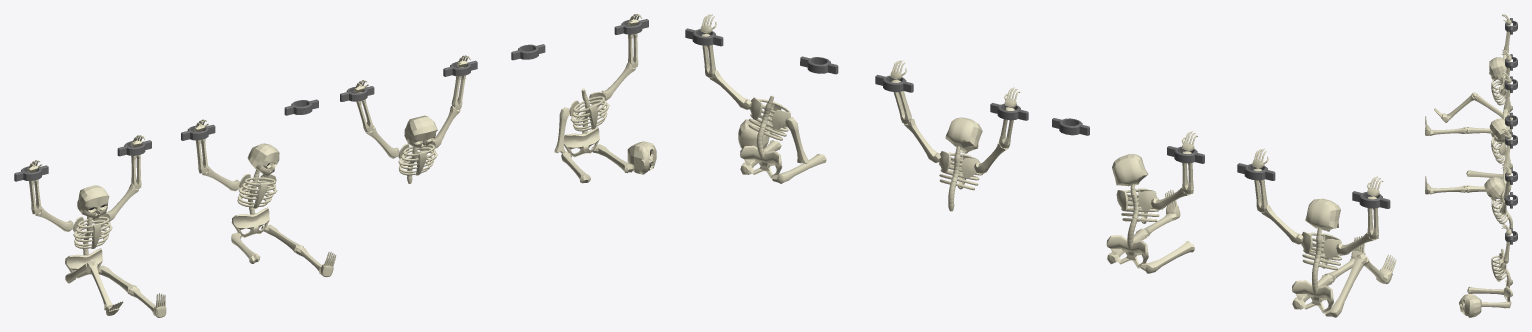
Rendered from Cadaver.fbx.
3 renders of one model, left to right at view 1: azimuth 30°, elevation 25°; view 2: azimuth 150°, elevation 25°; view 3: azimuth 270°, elevation 25°, orthographic. The views are drawn at different scales.
Parts seen in each view (by area): view 1: polySurface722, polySurface690, polySurface639, polySurface676, polySurface622, polySurface667, polySurface737, polySurface709, polySurface711, polySurface721, polySurface635; view 2: polySurface722, polySurface639, polySurface676, polySurface690, polySurface667, polySurface622, polySurface709, polySurface635, polySurface721, polySurface711, polySurface613, polySurface685 (+4 smaller); view 3: polySurface737, polySurface667, polySurface722, polySurface709, polySurface622, polySurface676, polySurface639, polySurface690, polySurface731, polySurface687, polySurface685, polySurface638 (+20 smaller).
Part boxes in pixels (left/top/right/bottom): polySurface722: left=569, top=88, right=609, bottom=134; polySurface690: left=237, top=169, right=277, bottom=215; polySurface639: left=73, top=213, right=112, bottom=255; polySurface676: left=398, top=141, right=437, bottom=183; polySurface622: left=77, top=185, right=109, bottom=219; polySurface667: left=404, top=115, right=437, bottom=148; polySurface737: left=627, top=141, right=656, bottom=174; polySurface709: left=247, top=143, right=279, bottom=177; polySurface711: left=231, top=207, right=269, bottom=237; polySurface721: left=563, top=127, right=599, bottom=157; polySurface635: left=65, top=248, right=102, bottom=278; polySurface722: left=748, top=95, right=790, bottom=159; polySurface639: left=1301, top=228, right=1342, bottom=293; polySurface676: left=939, top=146, right=982, bottom=211; polySurface690: left=1116, top=184, right=1159, bottom=248; polySurface667: left=945, top=117, right=982, bottom=153; polySurface622: left=1305, top=198, right=1340, bottom=231; polySurface709: left=1112, top=154, right=1148, bottom=186; polySurface635: left=1292, top=280, right=1333, bottom=313; polySurface721: left=740, top=145, right=782, bottom=178; polySurface711: left=1106, top=235, right=1148, bottom=268; polySurface613: left=1325, top=257, right=1366, bottom=317; polySurface685: left=1140, top=241, right=1194, bottom=273; polySurface737: left=1459, top=293, right=1481, bottom=317; polySurface667: left=1484, top=177, right=1505, bottom=200; polySurface722: left=1491, top=249, right=1510, bottom=287; polySurface709: left=1489, top=118, right=1511, bottom=142; polySurface622: left=1489, top=57, right=1506, bottom=80; polySurface676: left=1491, top=194, right=1512, bottom=228; polySurface639: left=1491, top=76, right=1510, bottom=113; polySurface690: left=1491, top=138, right=1510, bottom=168; polySurface731: left=1467, top=286, right=1503, bottom=294; polySurface687: left=1430, top=185, right=1467, bottom=194; polySurface685: left=1466, top=170, right=1503, bottom=179; polySurface638: left=1430, top=127, right=1467, bottom=135.
Bounding box in the file's own units: 18.19 × 3.73 × 3.22.
